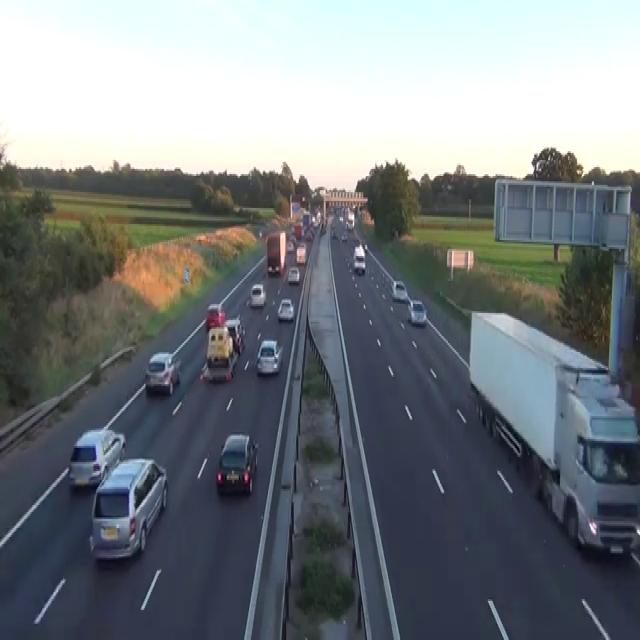Car: (88, 457, 167, 562), (68, 427, 126, 489), (216, 432, 258, 494), (144, 350, 181, 395), (200, 352, 237, 382), (255, 338, 283, 375), (224, 314, 245, 356), (205, 302, 225, 331), (407, 299, 427, 325), (277, 297, 294, 322), (250, 282, 266, 308), (391, 279, 407, 301), (353, 245, 365, 274), (287, 266, 300, 282), (267, 263, 280, 276), (287, 233, 296, 251), (286, 240, 294, 252), (311, 215, 318, 228), (258, 226, 267, 236), (306, 229, 314, 240), (320, 222, 326, 235), (330, 226, 336, 238), (346, 219, 353, 229), (341, 231, 347, 242), (290, 233, 296, 243), (338, 215, 343, 222), (364, 242, 368, 250), (258, 230, 262, 237)
Truck: (468, 310, 639, 558), (266, 230, 286, 276), (346, 212, 354, 230)
